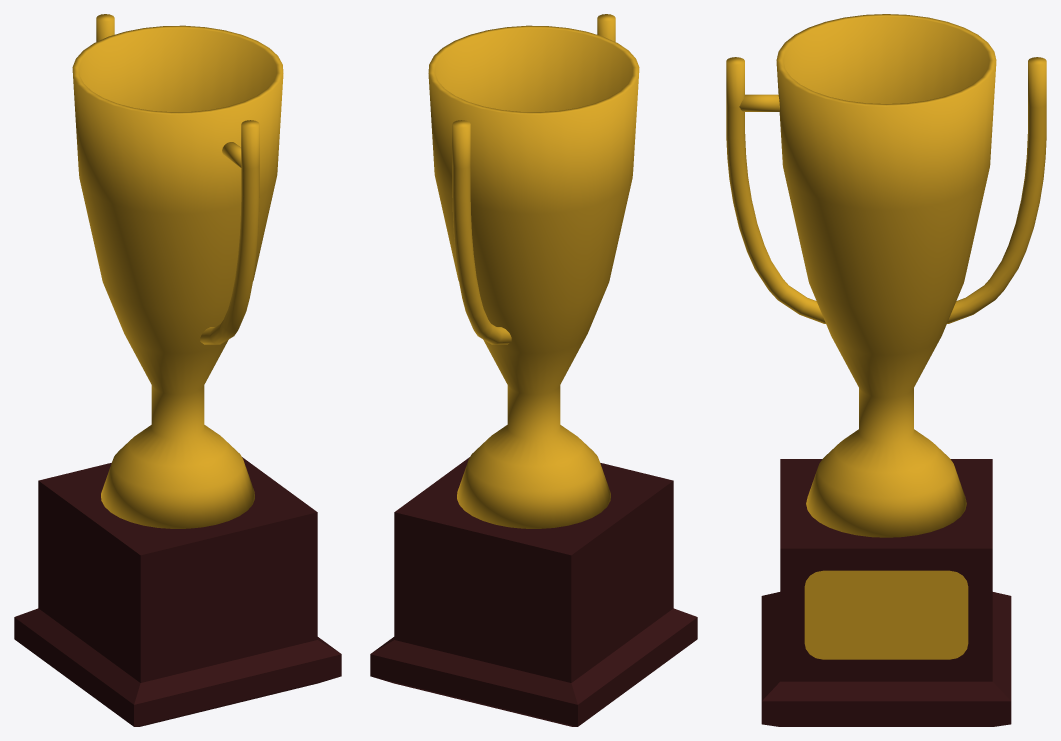
Rendered from pochar.fbx.
The picture shows the model from 3 angles, left to right: view 1: azimuth 30°, elevation 25°; view 2: azimuth 150°, elevation 25°; view 3: azimuth 270°, elevation 25°; orthographic projection. The views are drawn at different scales.
Parts seen in each view (by area): view 1: póchar; view 2: póchar; view 3: póchar.
Boxes of the visible parts, x1,y1,x2,y2 form: póchar: [14, 14, 341, 726]; póchar: [370, 14, 697, 726]; póchar: [726, 14, 1046, 726].
Bounding box in the file's own units: 112 × 308 × 144.
